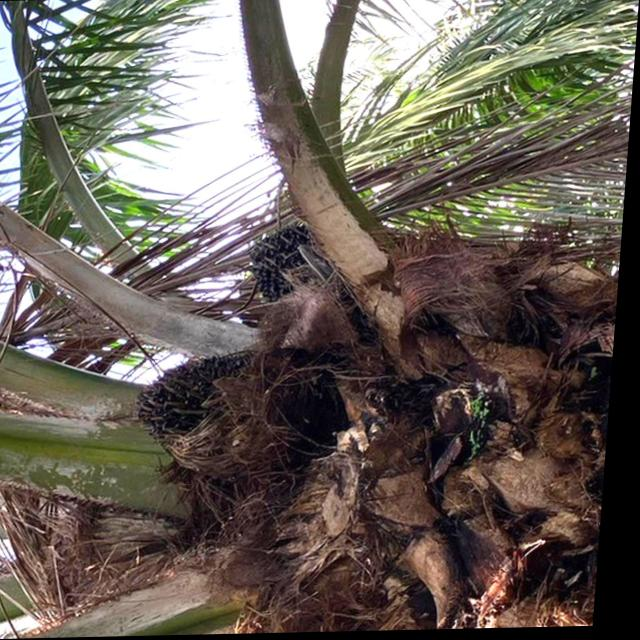unripe: (126, 343, 280, 471), (237, 217, 355, 321)
